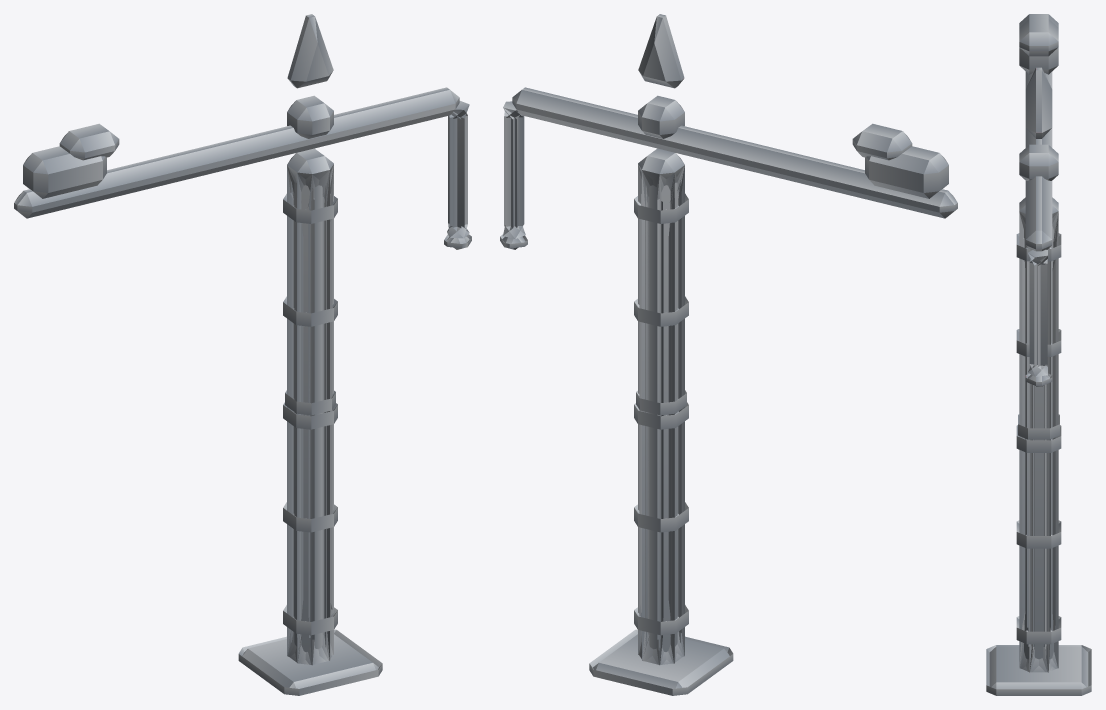
The model's file is dt_tower_crane.fbx.
3 views of the same model, side by side, from view 1: azimuth 30°, elevation 25°; view 2: azimuth 150°, elevation 25°; view 3: azimuth 270°, elevation 25° (orthographic). The views are drawn at different scales.
Parts seen in each view (by area): view 1: dt_tower_crane; view 2: dt_tower_crane; view 3: dt_tower_crane.
Part boxes in pixels (x1,y1,x2,y2): dt_tower_crane: [14, 14, 471, 695]; dt_tower_crane: [500, 14, 957, 695]; dt_tower_crane: [986, 14, 1091, 695].
Size of the model in its own units: 4008 by 5500 by 867.
